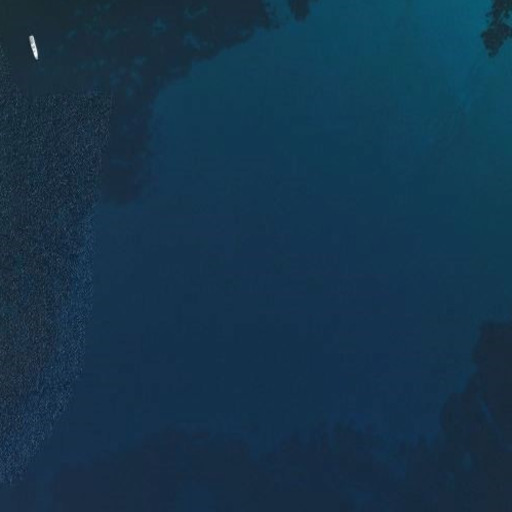ship: (27, 33, 42, 61)
